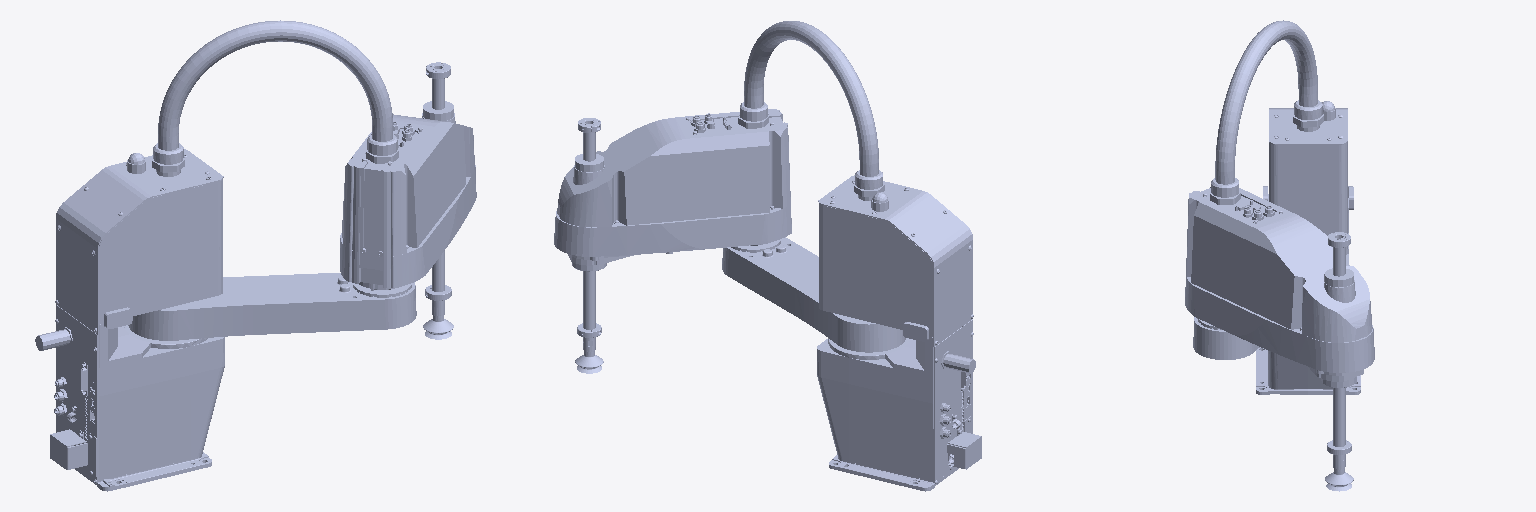
The robot description file, URDF, robot "Trayectory_ScaraT6":
<?xml version="1.0" encoding="utf-8"?>
<!-- This URDF was automatically created by SolidWorks to URDF Exporter! Originally created by [author] ([email redacted]) 
     Commit Version: 1.6.0-4-g7f85cfe  Build Version: 1.6.7995.38578
     For more information, please see http://wiki.ros.org/sw_urdf_exporter -->
<robot
  name="Trayectory_ScaraT6">
  <link
    name="Base_ScaraT6">
    <inertial>
      <origin
        xyz="-0.0507938994716754 0.000110955965225465 -0.00518749836605034"
        rpy="0 0 0" />
      <mass
        value="11.6298653739476" />
      <inertia
        ixx="0.229330937369406"
        ixy="0.000104748645314744"
        ixz="-0.0105952074442447"
        iyy="0.260653500937308"
        iyz="-8.58695071842025E-05"
        izz="0.0633364409209329" />
    </inertial>
    <visual>
      <origin
        xyz="0 0 0"
        rpy="0 0 0" />
      <geometry>
        <mesh
          filename="package://Trayectory_ScaraT6/meshes/Base_ScaraT6.STL" />
      </geometry>
      <material
        name="">
        <color
          rgba="0.792156862745098 0.819607843137255 0.933333333333333 1" />
      </material>
    </visual>
    <collision>
      <origin
        xyz="0 0 0"
        rpy="0 0 0" />
      <geometry>
        <mesh
          filename="package://Trayectory_ScaraT6/meshes/Base_ScaraT6.STL" />
      </geometry>
    </collision>
  </link>
  <link
    name="Eslabon1_ScaraT6">
    <inertial>
      <origin
        xyz="0.13426 -0.060948 0.0011508"
        rpy="0 0 0" />
      <mass
        value="1.6797" />
      <inertia
        ixx="0.0047713"
        ixy="0.0061069"
        ixz="0.00042485"
        iyy="0.015452"
        iyz="-0.00019287"
        izz="0.019536" />
    </inertial>
    <visual>
      <origin
        xyz="0 0 0"
        rpy="0 0 0" />
      <geometry>
        <mesh
          filename="package://Trayectory_ScaraT6/meshes/Eslabon1_ScaraT6.STL" />
      </geometry>
      <material
        name="">
        <color
          rgba="0.79216 0.81961 0.93333 1" />
      </material>
    </visual>
    <collision>
      <origin
        xyz="0 0 0"
        rpy="0 0 0" />
      <geometry>
        <mesh
          filename="package://Trayectory_ScaraT6/meshes/Eslabon1_ScaraT6.STL" />
      </geometry>
    </collision>
  </link>
  <joint
    name="Motor1_ScaraT6"
    type="revolute">
    <origin
      xyz="0 0 0"
      rpy="0 0 0" />
    <parent
      link="Base_ScaraT6" />
    <child
      link="Eslabon1_ScaraT6" />
    <axis
      xyz="0 0 1" />
    <limit
      lower="0"
      upper="0"
      effort="0"
      velocity="0" />
  </joint>
  <link
    name="Eslabon2_ScaraT6">
    <inertial>
      <origin
        xyz="0.0888011994152746 0.0801997416248819 0.126638612232093"
        rpy="0 0 0" />
      <mass
        value="7.53552735524633" />
      <inertia
        ixx="0.0625153654144892"
        ixy="-0.0340715037347829"
        ixz="0.00434337872484673"
        iyy="0.0694438687570472"
        iyz="0.00392840228368042"
        izz="0.0839824657522899" />
    </inertial>
    <visual>
      <origin
        xyz="0 0 0"
        rpy="0 0 0" />
      <geometry>
        <mesh
          filename="package://Trayectory_ScaraT6/meshes/Eslabon2_ScaraT6.STL" />
      </geometry>
      <material
        name="">
        <color
          rgba="0.792156862745098 0.819607843137255 0.933333333333333 1" />
      </material>
    </visual>
    <collision>
      <origin
        xyz="0 0 0"
        rpy="0 0 0" />
      <geometry>
        <mesh
          filename="package://Trayectory_ScaraT6/meshes/Eslabon2_ScaraT6.STL" />
      </geometry>
    </collision>
  </link>
  <joint
    name="Motor2_ScaraT6"
    type="revolute">
    <origin
      xyz="0.29593 -0.13434 0"
      rpy="0 0 0" />
    <parent
      link="Eslabon1_ScaraT6" />
    <child
      link="Eslabon2_ScaraT6" />
    <axis
      xyz="0 0 -1" />
    <limit
      lower="0"
      upper="0"
      effort="0"
      velocity="0" />
  </joint>
  <link
    name="Eslabon3_ScaraT6">
    <inertial>
      <origin
        xyz="0.000101985033136853 -5.85229511694818E-05 0.0496055724330256"
        rpy="0 0 0" />
      <mass
        value="0.0882873317382595" />
      <inertia
        ixx="0.00152334387776692"
        ixy="-3.08341923590769E-08"
        ixz="2.33194239366253E-09"
        iyy="0.00152326575067869"
        iyz="-4.50363162943859E-08"
        izz="1.03409245671275E-05" />
    </inertial>
    <visual>
      <origin
        xyz="0 0 0"
        rpy="0 0 0" />
      <geometry>
        <mesh
          filename="package://Trayectory_ScaraT6/meshes/Eslabon3_ScaraT6.STL" />
      </geometry>
      <material
        name="">
        <color
          rgba="0.792156862745098 0.819607843137255 0.933333333333333 1" />
      </material>
    </visual>
    <collision>
      <origin
        xyz="0 0 0"
        rpy="0 0 0" />
      <geometry>
        <mesh
          filename="package://Trayectory_ScaraT6/meshes/Eslabon3_ScaraT6.STL" />
      </geometry>
    </collision>
  </link>
  <joint
    name="Motor3_ScaraT6"
    type="revolute">
    <origin
      xyz="0.20407 0.18434 0"
      rpy="0 0 0" />
    <parent
      link="Eslabon2_ScaraT6" />
    <child
      link="Eslabon3_ScaraT6" />
    <axis
      xyz="0 0 -1" />
    <limit
      lower="0"
      upper="0"
      effort="0"
      velocity="0" />
  </joint>
</robot>

--- Facts derived from the render (not from the file) ---
3 views of the same robot in one strip: view 1: azimuth 30°, elevation 25°; view 2: azimuth 150°, elevation 25°; view 3: azimuth 270°, elevation 25° (orthographic).
Model Trayectory_ScaraT6 with 4 links and 3 joints (3 revolute), rooted at Base_ScaraT6, posed every joint at zero.
Links seen in each view (by area): view 1: Eslabon1_ScaraT6, Eslabon2_ScaraT6, Eslabon3_ScaraT6; view 2: Eslabon1_ScaraT6, Eslabon3_ScaraT6, Eslabon2_ScaraT6; view 3: Eslabon1_ScaraT6, Eslabon3_ScaraT6, Eslabon2_ScaraT6.
Link boxes in pixels (x1=…): Eslabon1_ScaraT6: x1=35, y1=20, x2=475, y2=490; Eslabon2_ScaraT6: x1=41, y1=21, x2=476, y2=488; Eslabon3_ScaraT6: x1=56, y1=21, x2=476, y2=491; Eslabon1_ScaraT6: x1=554, y1=21, x2=981, y2=491; Eslabon3_ScaraT6: x1=561, y1=21, x2=973, y2=490; Eslabon2_ScaraT6: x1=557, y1=21, x2=980, y2=490; Eslabon1_ScaraT6: x1=1185, y1=20, x2=1374, y2=491; Eslabon3_ScaraT6: x1=1186, y1=21, x2=1363, y2=444; Eslabon2_ScaraT6: x1=1193, y1=21, x2=1374, y2=490.
Bounding box of the posed robot: 0.7677 × 0.307 × 0.7063 m (x, y, z).
Meshes: 4 distinct files referenced, 3 mesh visuals loaded (3 binary STL); not drawn: 1 (reference not matched to a file when rendering).
